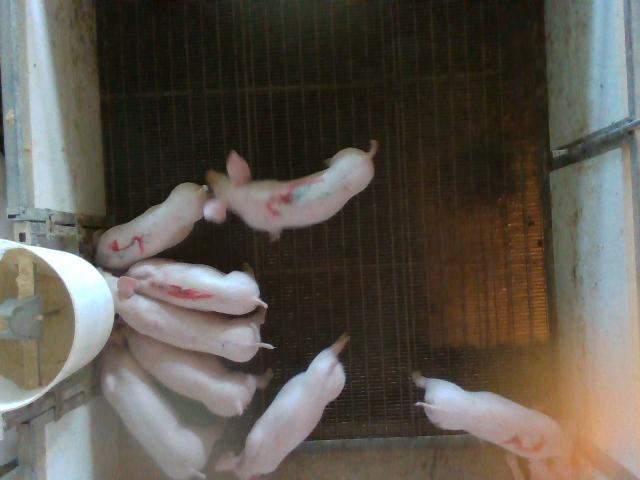pig-1: (125, 259, 268, 314)
pig-2: (412, 371, 564, 459)
pig-3: (204, 140, 378, 240)
pig-5: (96, 185, 209, 270)
